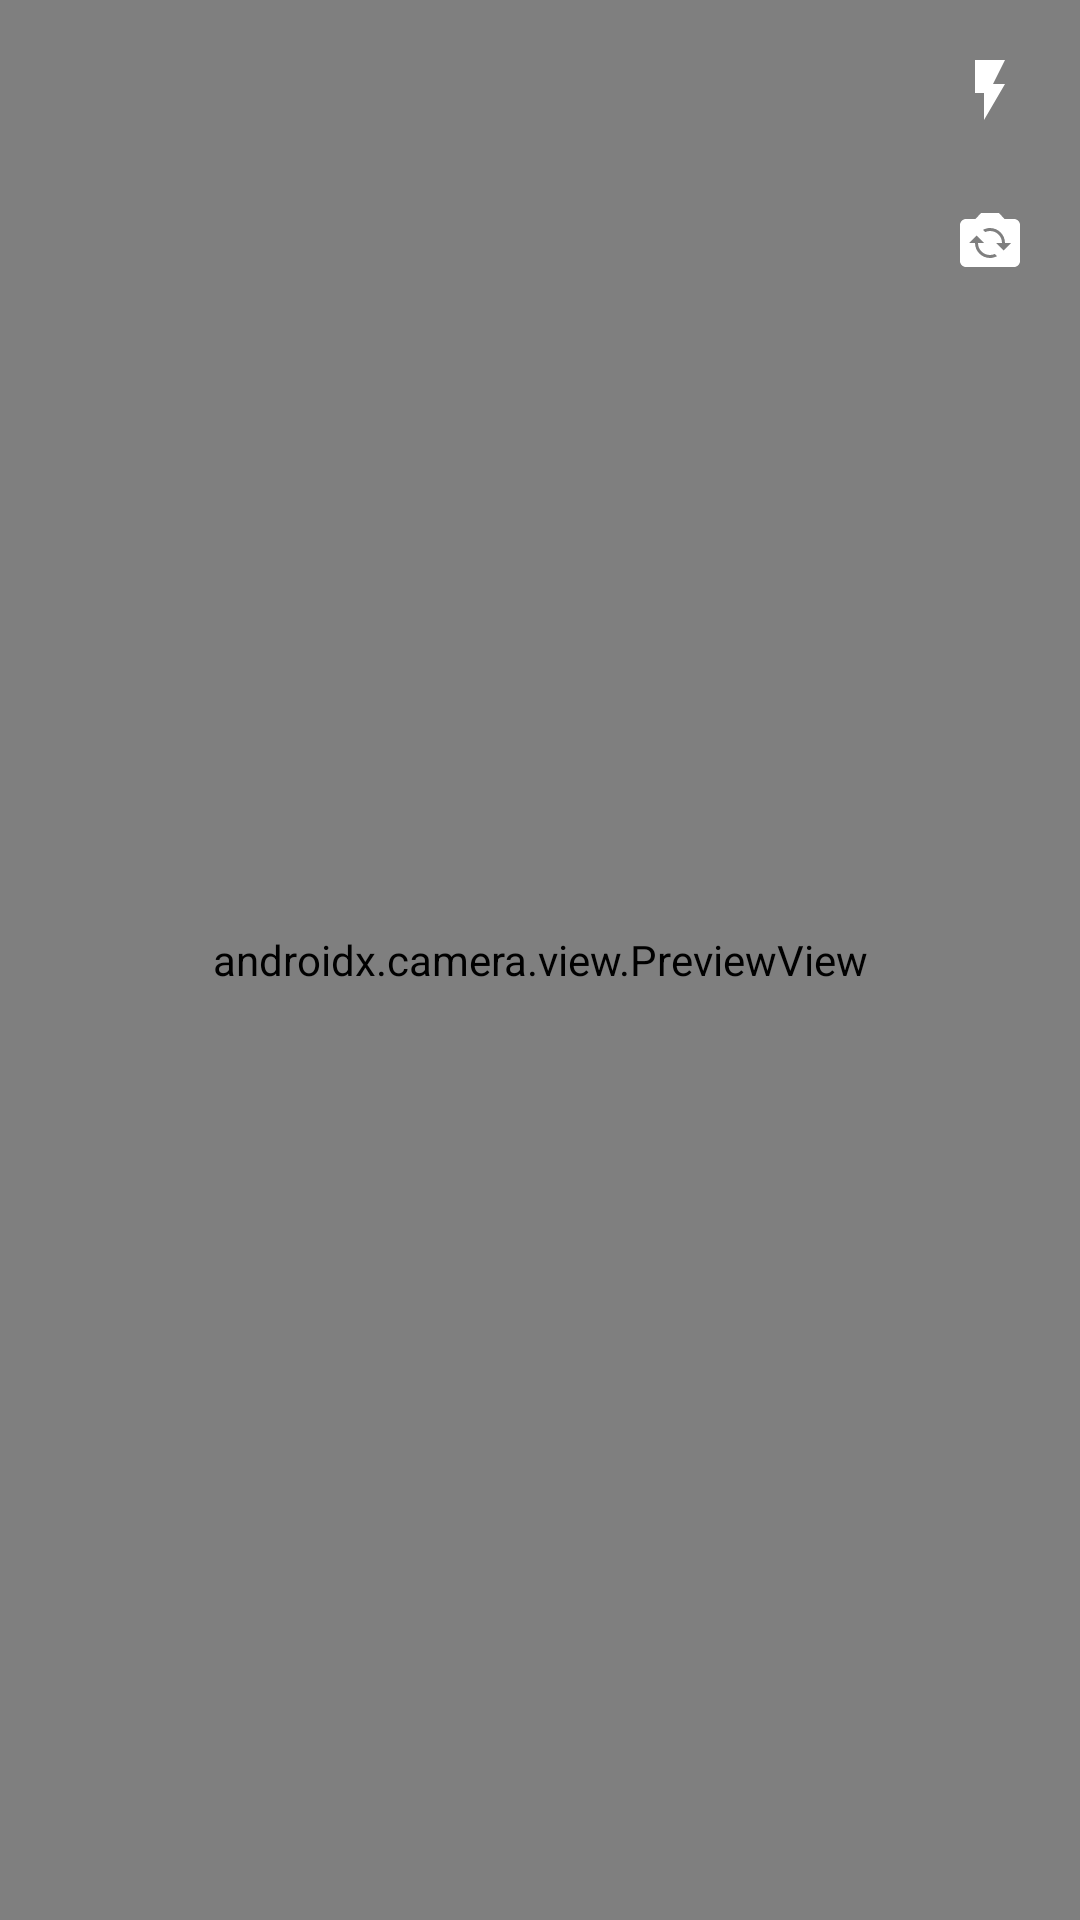

Screen size 1080*1920. Icon name, then its center in pixels as (x,y):
flash on: (990,90)
flip camera android: (990,240)
